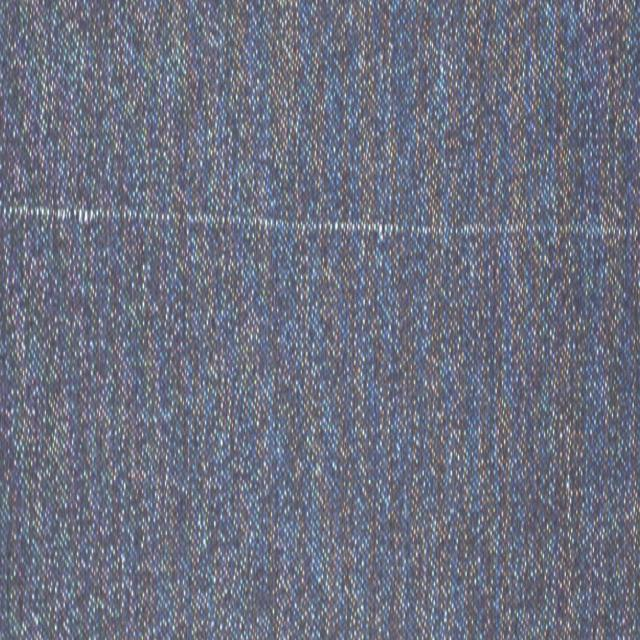Line: (0, 198, 638, 242)
